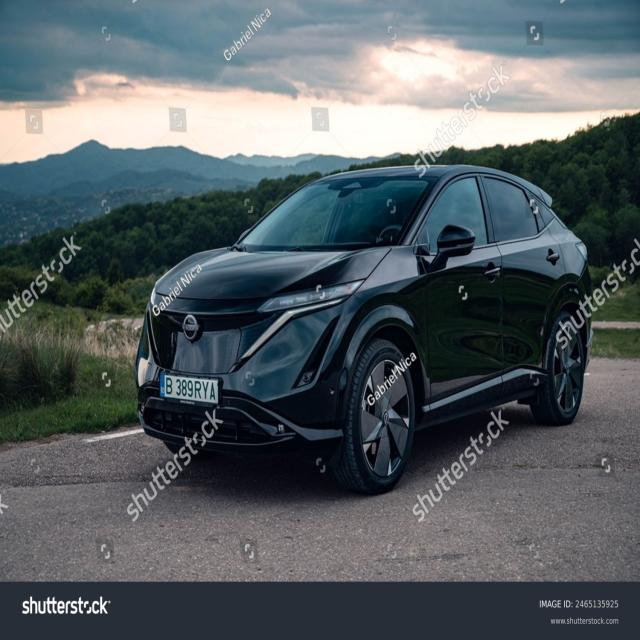nissan: (174, 306, 205, 342)
